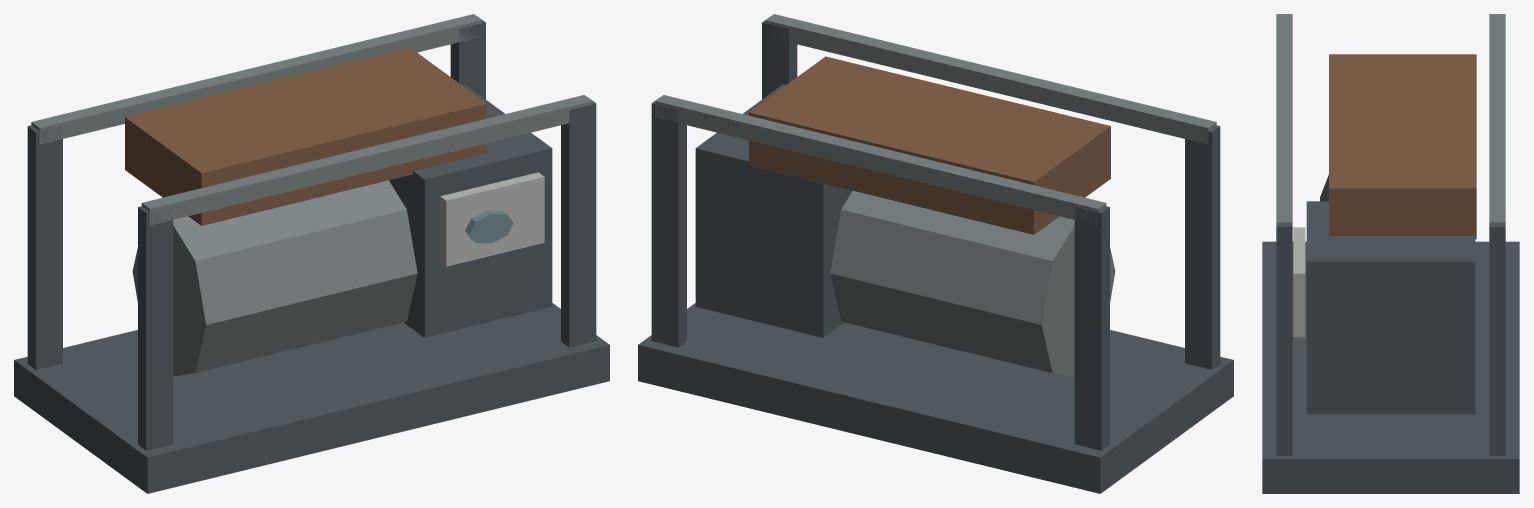
The model's file is generator.glb.
3 renders of one model, left to right at view 1: azimuth 30°, elevation 25°; view 2: azimuth 150°, elevation 25°; view 3: azimuth 270°, elevation 25°, orthographic. The views are drawn at different scales.
Visible parts, largest first — view 1: generator; view 2: generator; view 3: generator.
Boxes of the visible parts, bbox=[...] form: generator: bbox=[14, 14, 609, 493]; generator: bbox=[638, 14, 1233, 493]; generator: bbox=[1262, 14, 1519, 493].
Size of the model in its own units: 1.92 by 1.1 by 0.96.
